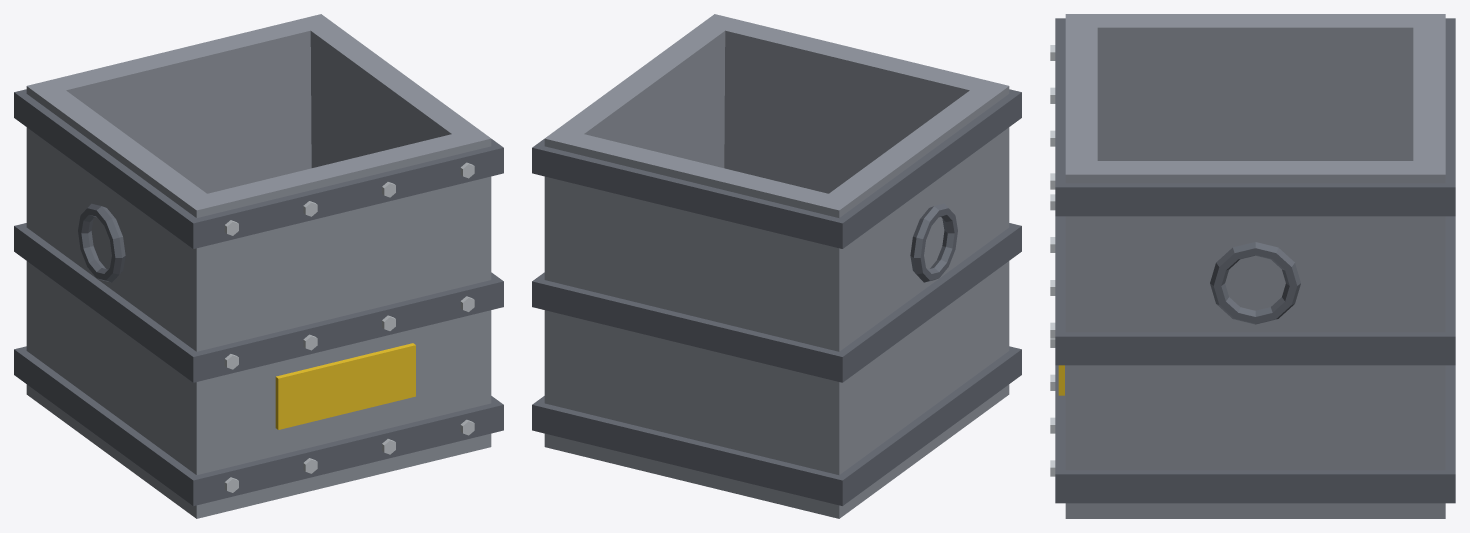
File: Steel.fbx
3 views of the same model, side by side, from view 1: azimuth 30°, elevation 25°; view 2: azimuth 150°, elevation 25°; view 3: azimuth 270°, elevation 25° (orthographic). The views are drawn at different scales.
Visible parts, largest first — view 1: Walls, Bands, Hazard, Rivets; view 2: Walls, Bands; view 3: Walls, Bands, Rivets.
Part boxes in pixels (left/top/right/bottom): Walls: left=26, top=14, right=491, bottom=518; Bands: left=14, top=89, right=503, bottom=505; Hazard: left=275, top=343, right=415, bottom=429; Rivets: left=224, top=162, right=474, bottom=492; Walls: left=544, top=14, right=1009, bottom=518; Bands: left=532, top=89, right=1021, bottom=505; Walls: left=1065, top=14, right=1445, bottom=518; Bands: left=1055, top=18, right=1455, bottom=503; Rivets: left=1050, top=45, right=1055, bottom=476.
Bounding box in the file's own units: 3.3 × 3 × 3.2.
